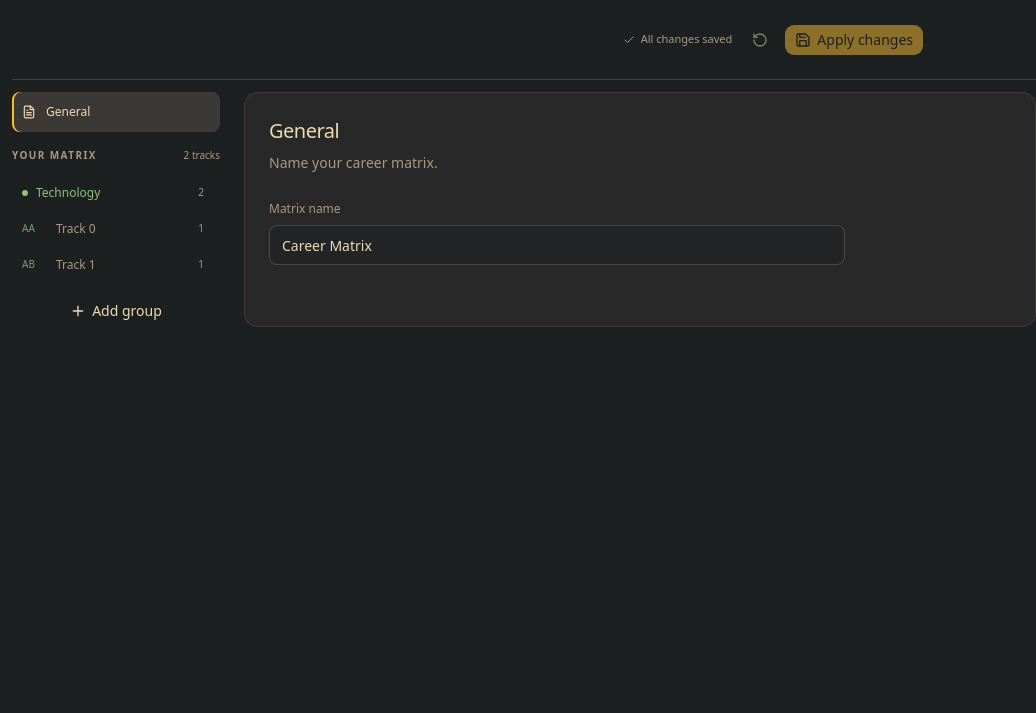
Test case: <DocumentForm /> › removes a track and selects the previous track
This screenshot has width=1036, height=713.
Click the button "AB Track 1 1" at (113, 265), box [14,249,212,281]
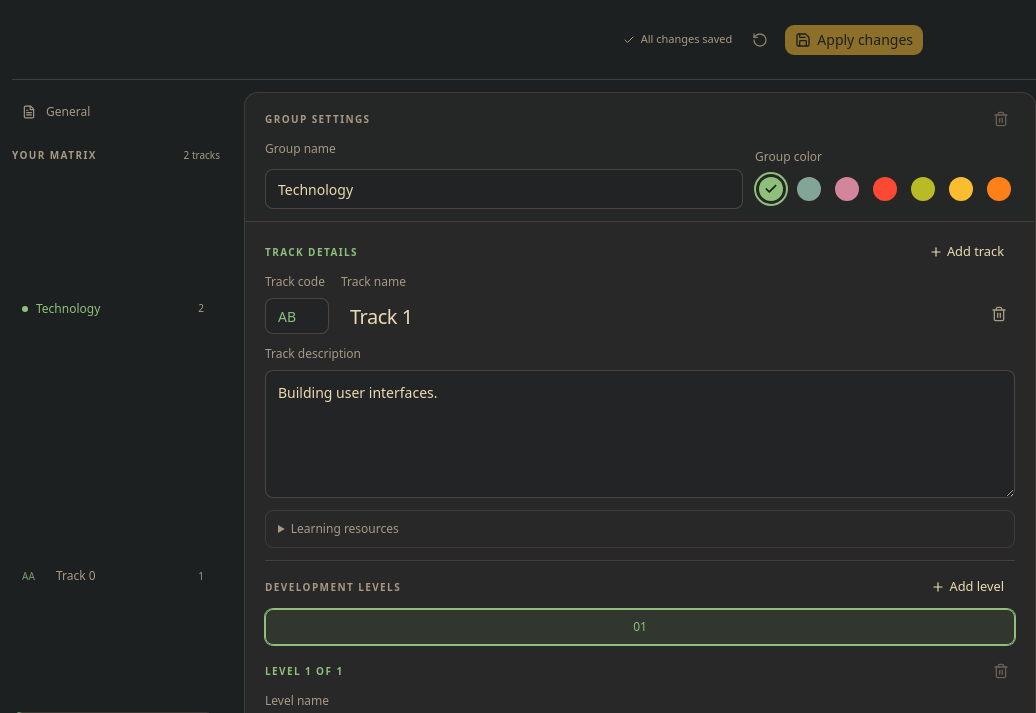
Click the button named "Remove track" at (999, 314), box [983,298,1015,330]
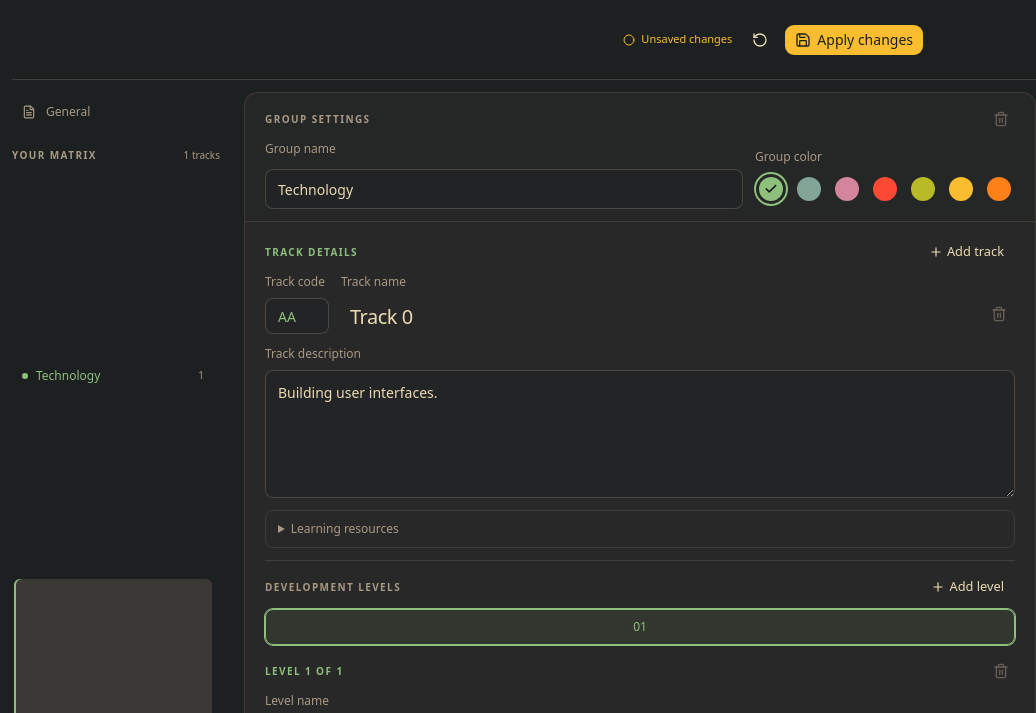
expect the button named "Remove track" is disabled: met, box [983,298,1015,330]
